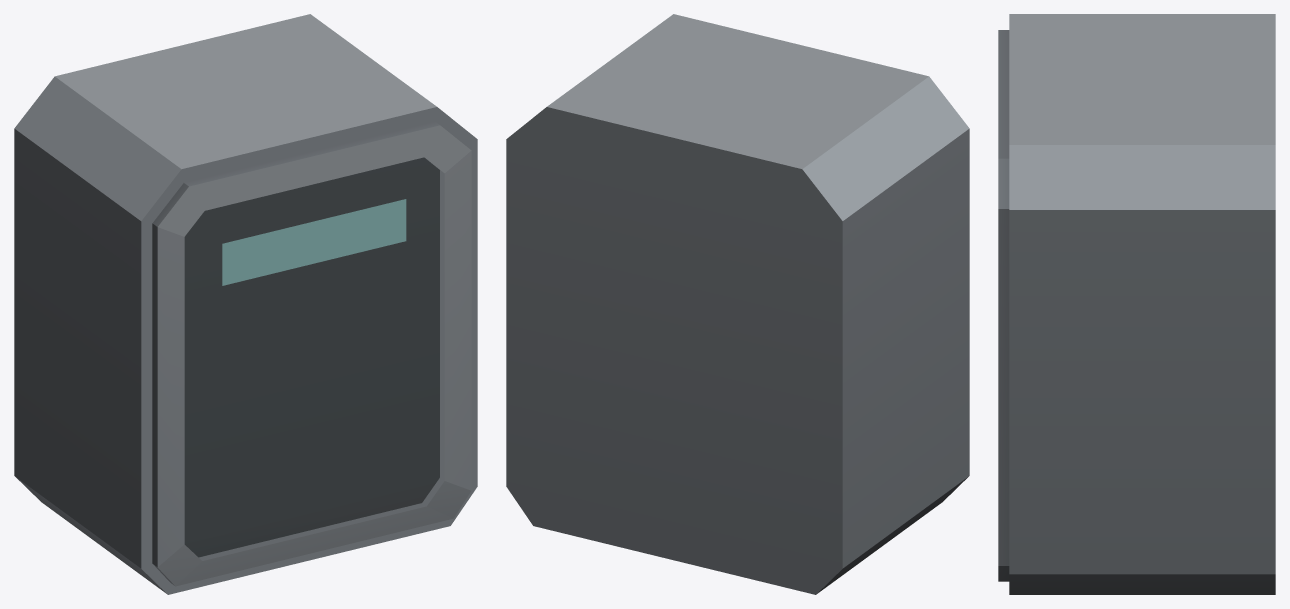
Rendered from battery.lod2.glb.
3 renders of one model, left to right at view 1: azimuth 30°, elevation 25°; view 2: azimuth 150°, elevation 25°; view 3: azimuth 270°, elevation 25°, orthographic. The views are drawn at different scales.
Size of the model in its own units: 1.5 by 1.8 by 1.02.
